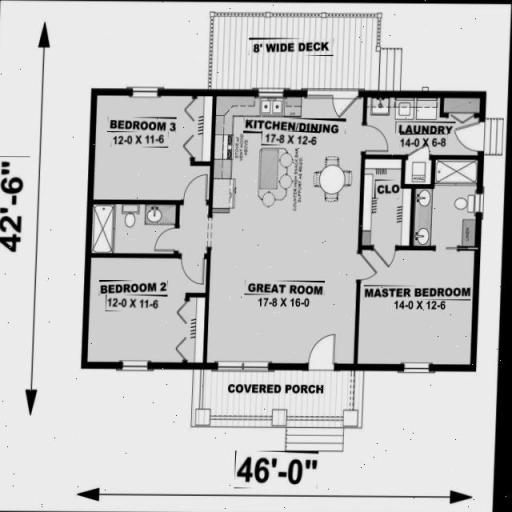bathroom: (370, 163, 476, 269)
bedroom: (96, 259, 202, 368), (360, 274, 483, 366), (99, 97, 205, 196)
hall: (214, 267, 348, 370)
kitchen: (214, 96, 358, 266)
laundary: (362, 99, 482, 161)
